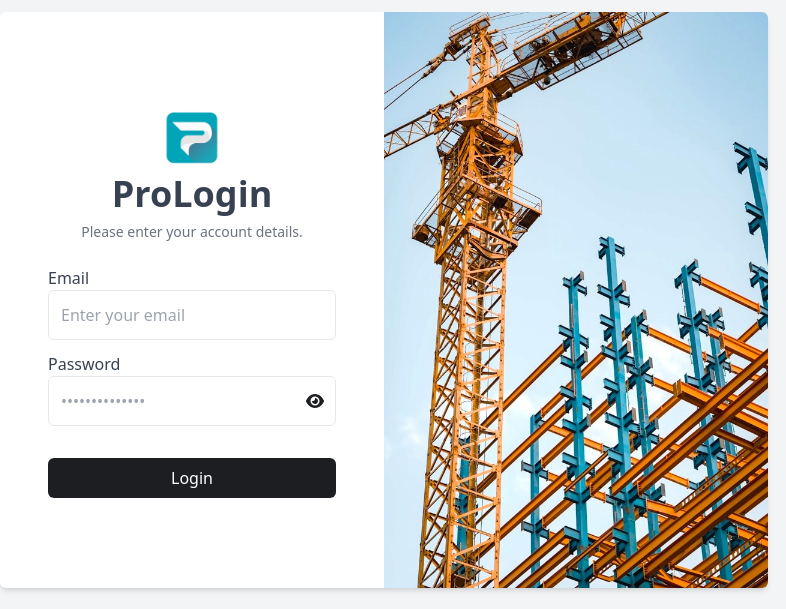
Test: <LoginForm/> › should alert user if email format is incorrect
In the field with placeholder "Enter your email": (192, 315) [48, 290, 336, 340], type "test"
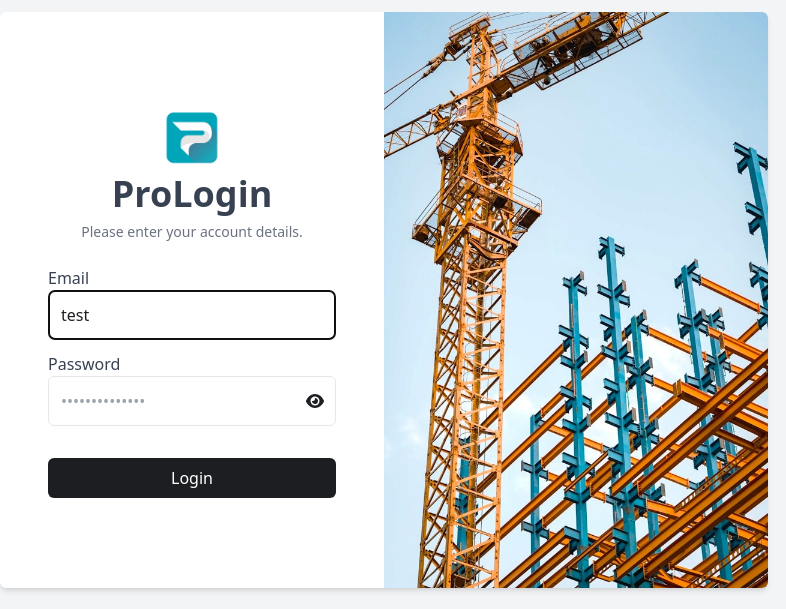
Click the button "Login": click(192, 478) [48, 458, 336, 498]
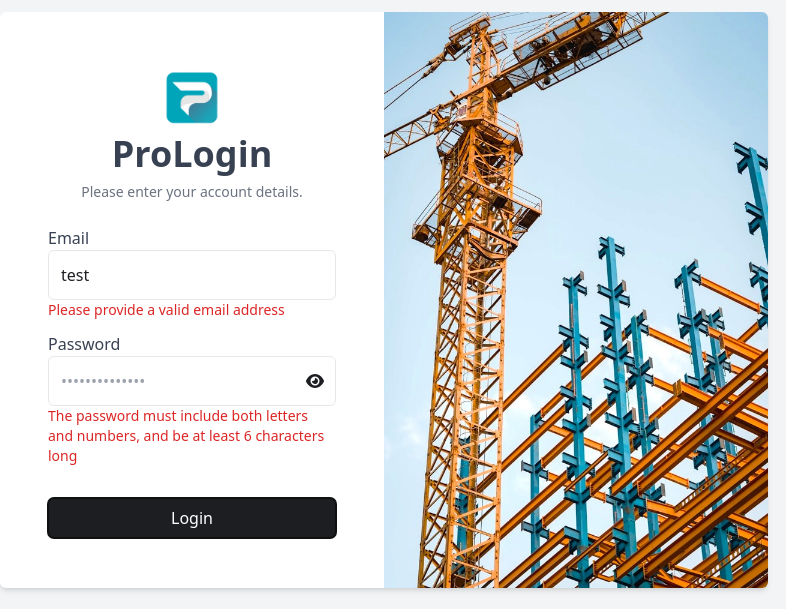
Now the text "Please provide a valid email address" is shown, box [48, 300, 285, 319]
